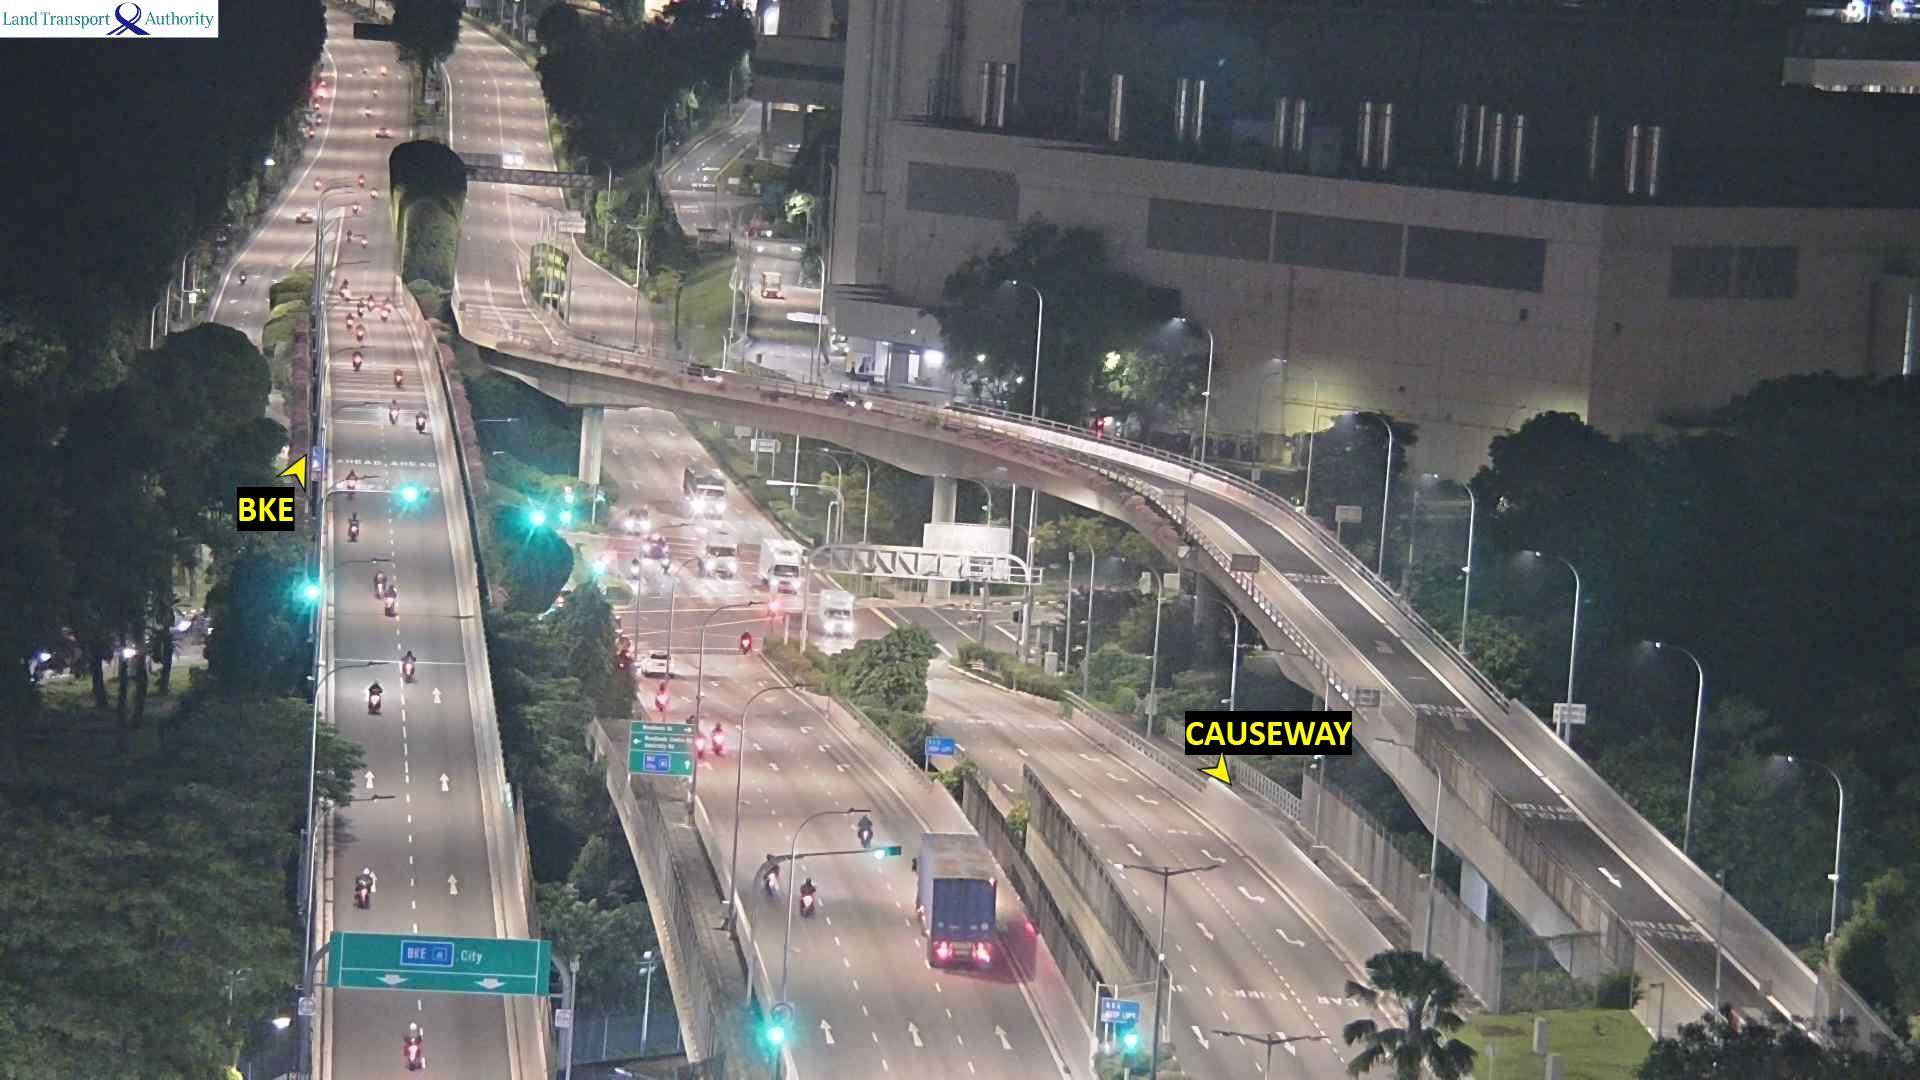vehicle-causeway-johor: (760, 538, 803, 595), (818, 589, 855, 638), (680, 360, 723, 384), (827, 386, 870, 409)
vehicle-causeway-singapore: (916, 831, 994, 972), (641, 650, 673, 676), (765, 853, 783, 897), (404, 1023, 422, 1065), (798, 880, 818, 918), (856, 811, 874, 849), (365, 676, 381, 720), (356, 868, 371, 911), (402, 651, 419, 683), (655, 680, 667, 715), (411, 407, 427, 433), (713, 723, 727, 752), (345, 463, 357, 495), (386, 585, 400, 613), (388, 400, 401, 426), (390, 368, 406, 388), (349, 513, 360, 541), (740, 630, 750, 654), (375, 568, 385, 592), (353, 352, 363, 368)
